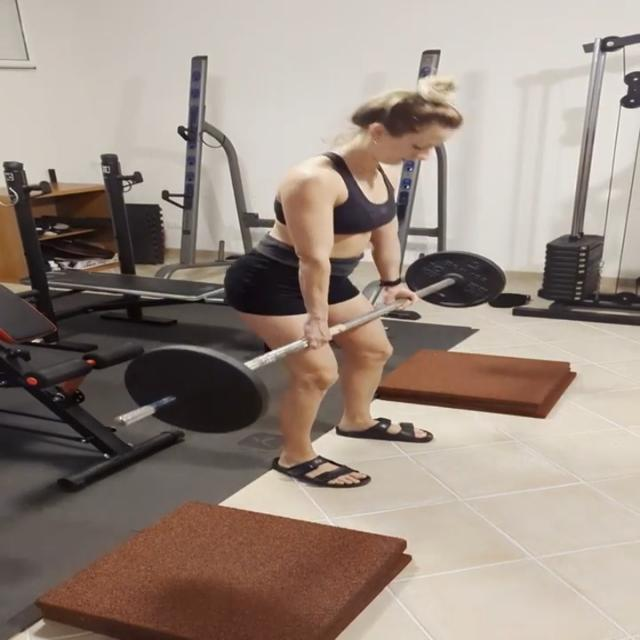barbell: (108, 340, 272, 438)
